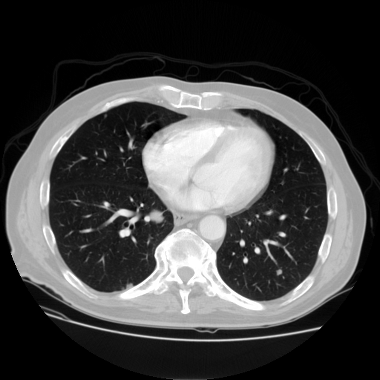nodule: (276, 269, 282, 275)
